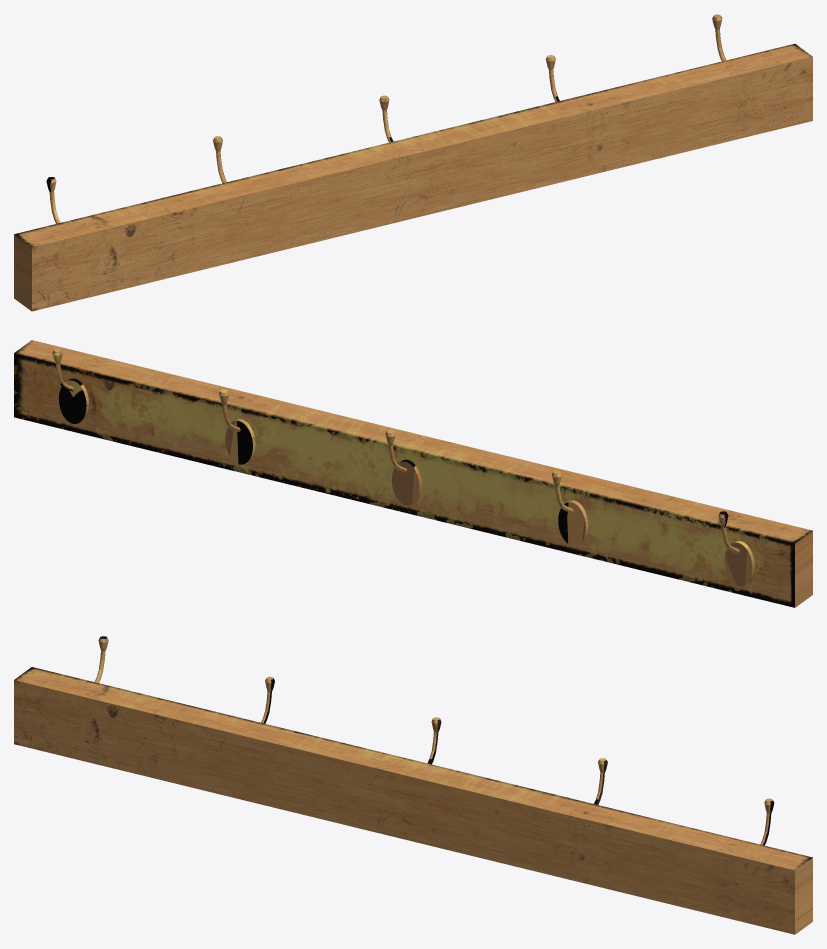
File: wieszak dlugi.obj
3 renders of one model, top to bottom at view 1: azimuth 30°, elevation 25°; view 2: azimuth 150°, elevation 25°; view 3: azimuth 330°, elevation 25°, orthographic.
Parts seen in each view (by area): view 1: Cube.050_Cube.051; view 2: Cube.050_Cube.051; view 3: Cube.050_Cube.051.
Part boxes in pixels (x1=…): Cube.050_Cube.051: x1=14, y1=14, x2=812, y2=311; Cube.050_Cube.051: x1=14, y1=340, x2=812, y2=607; Cube.050_Cube.051: x1=14, y1=636, x2=812, y2=934.
Size of the model in its own units: 0.9386 by 0.1084 by 0.0781.
Materials: 1 (1 with a texture image).
